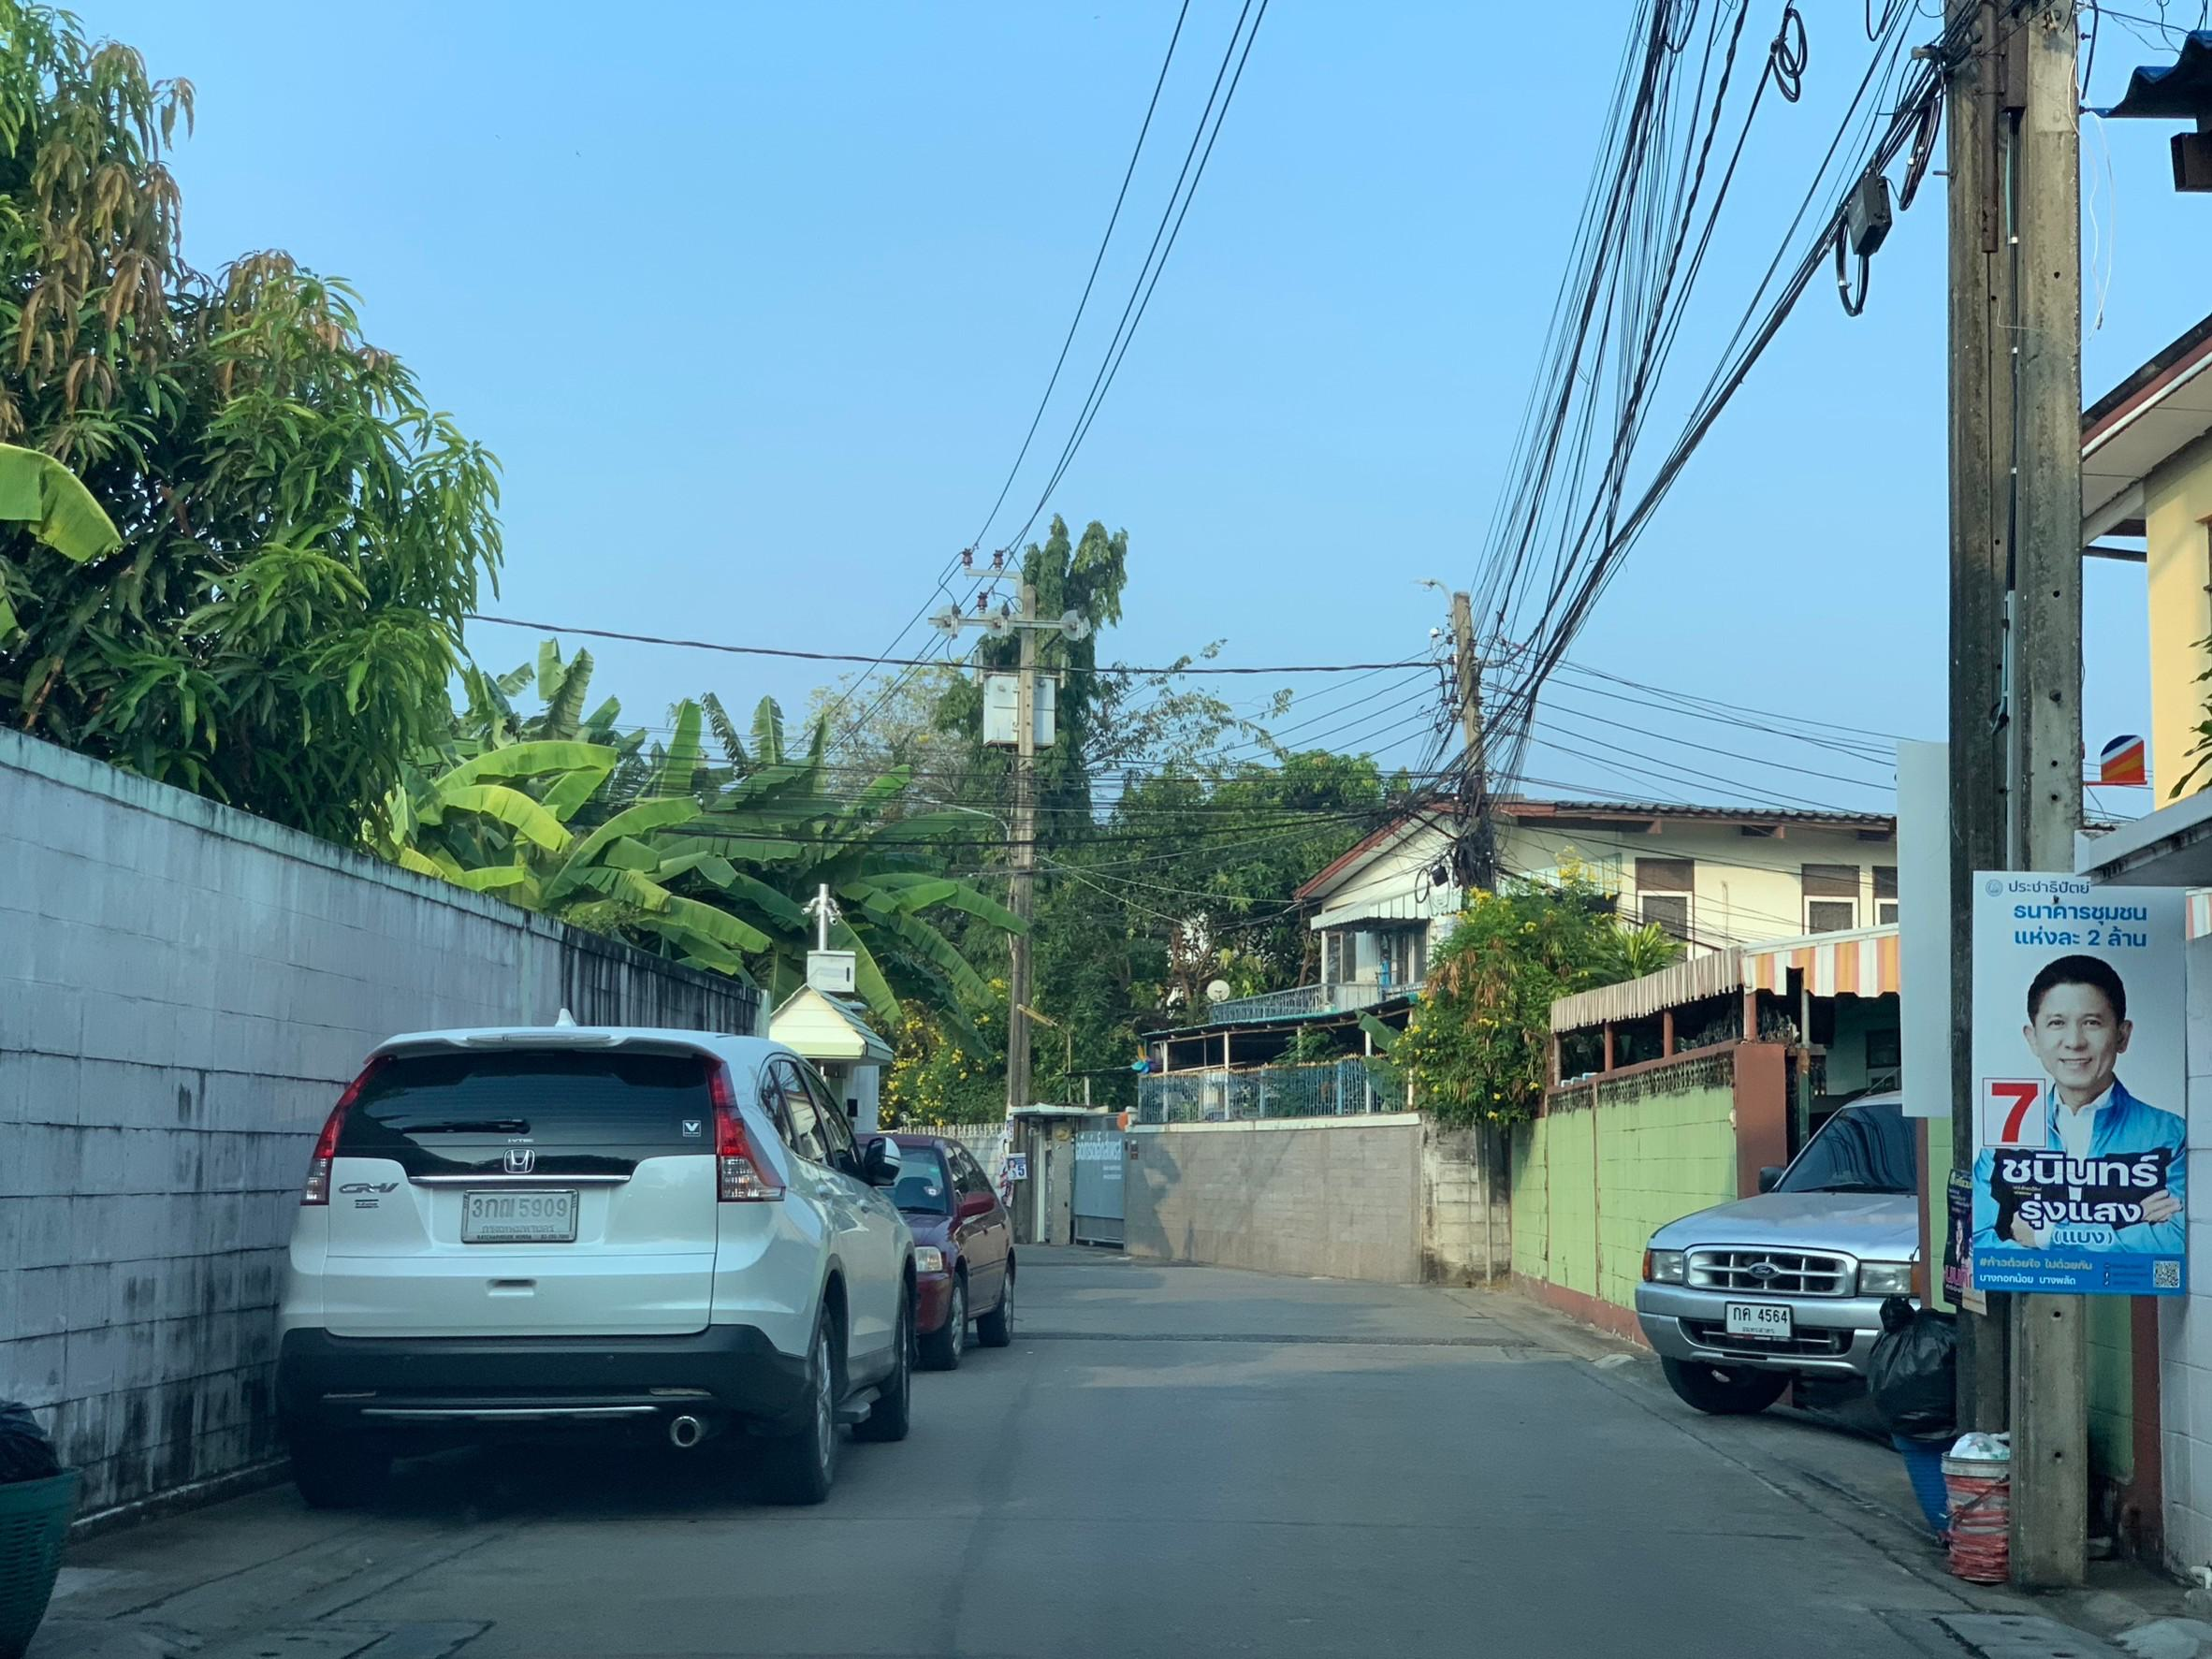Banner: (1959, 847, 2203, 1302)
